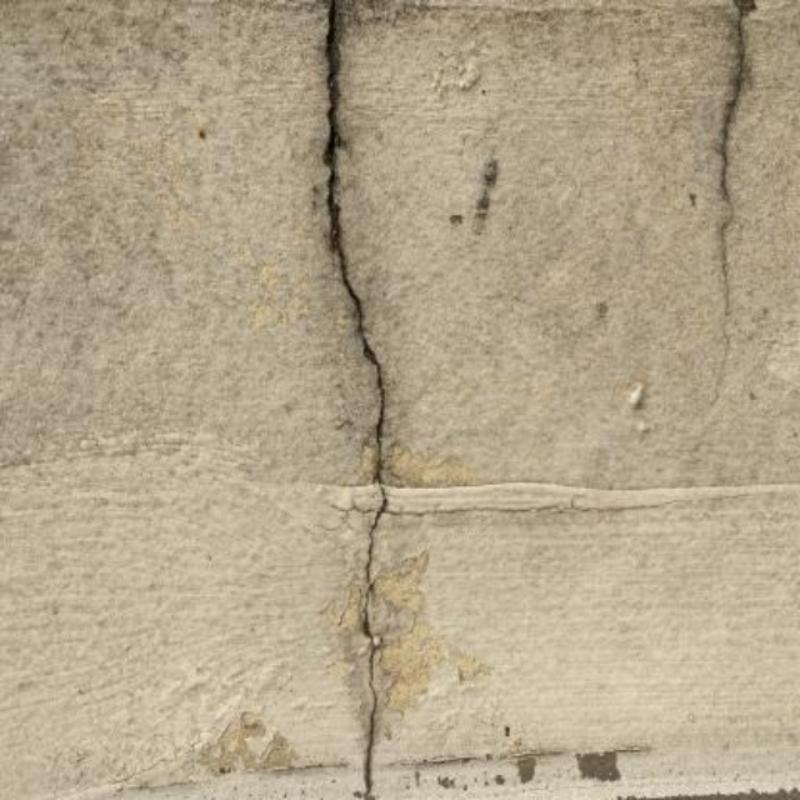pothole: (322, 0, 388, 793)
